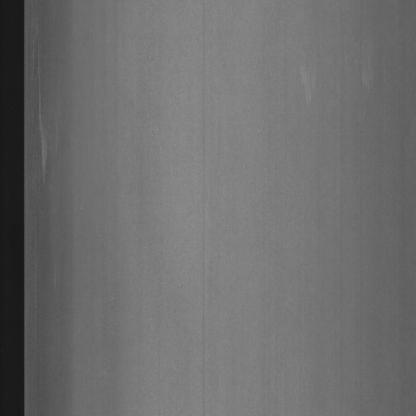silk_spot: (30, 49, 66, 197)
